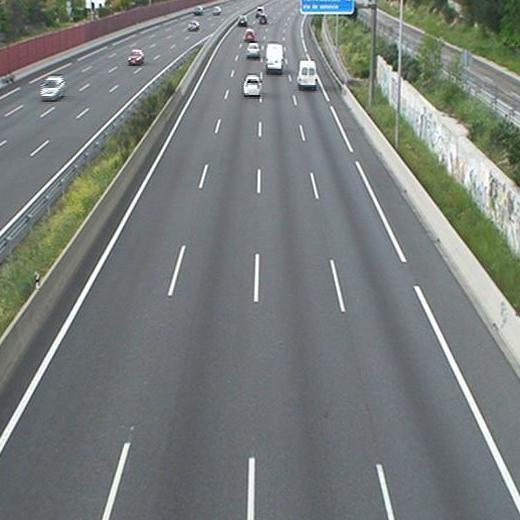car: (243, 74, 263, 98), (245, 42, 261, 59), (244, 29, 255, 43)
van: (264, 42, 284, 76), (297, 60, 317, 91)
